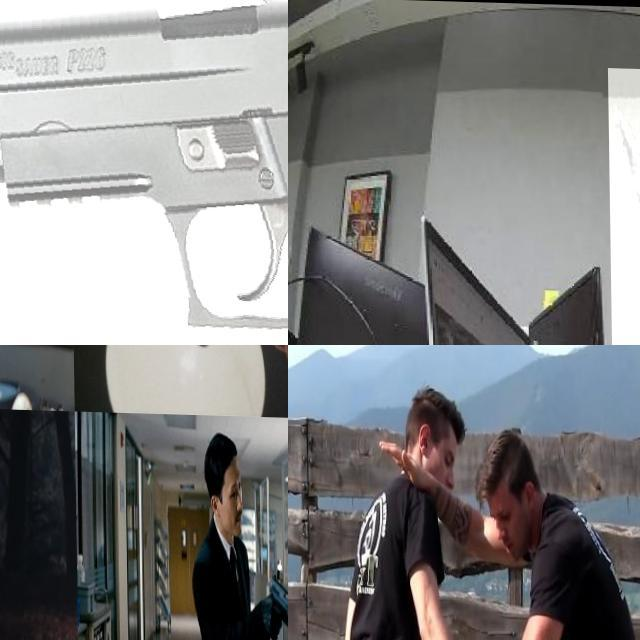-: (607, 65, 640, 345)
gun-knife-thesis - v11 Yolov5 augmented: (0, 0, 288, 345), (73, 345, 288, 444), (0, 345, 47, 411), (259, 567, 288, 640), (0, 575, 26, 640)
